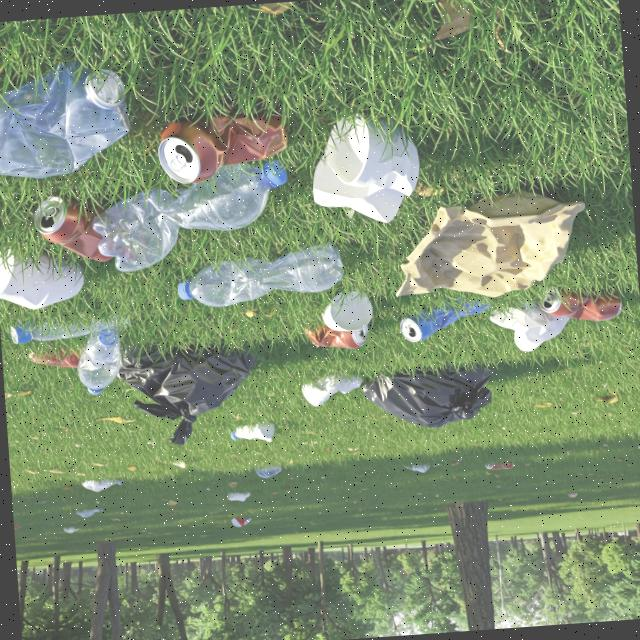aluminum: (150, 105, 296, 189), (28, 190, 120, 270), (397, 298, 490, 345), (536, 283, 624, 327), (304, 319, 369, 350), (23, 340, 82, 372)
paper: (384, 192, 600, 314), (304, 111, 426, 233), (0, 238, 89, 315), (485, 302, 578, 354), (298, 368, 366, 408), (223, 412, 276, 449)
plastic: (86, 157, 294, 277), (0, 61, 134, 186), (174, 242, 348, 308), (75, 328, 126, 400)
